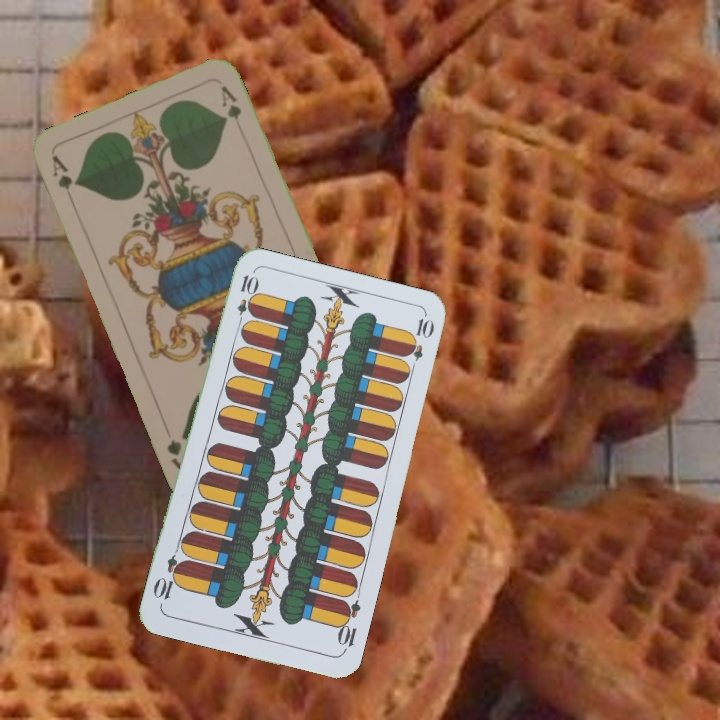E10: (333, 596, 364, 655), (232, 271, 258, 330)
GA: (47, 152, 75, 193)
